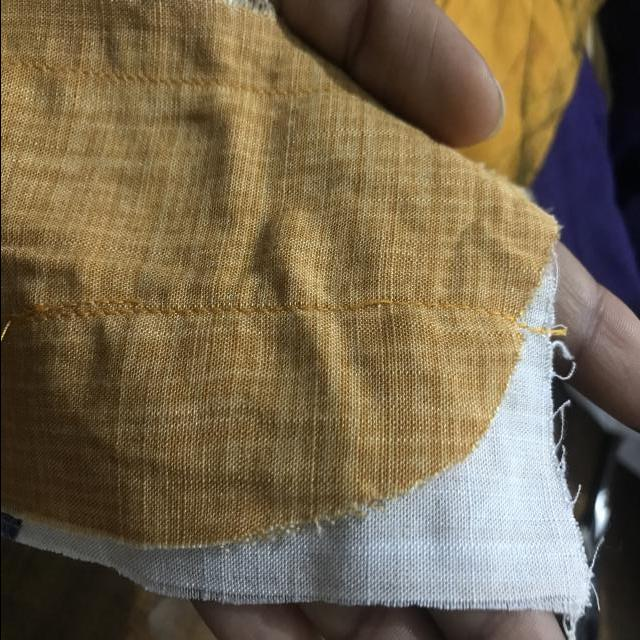Skip: (342, 273, 402, 326)
